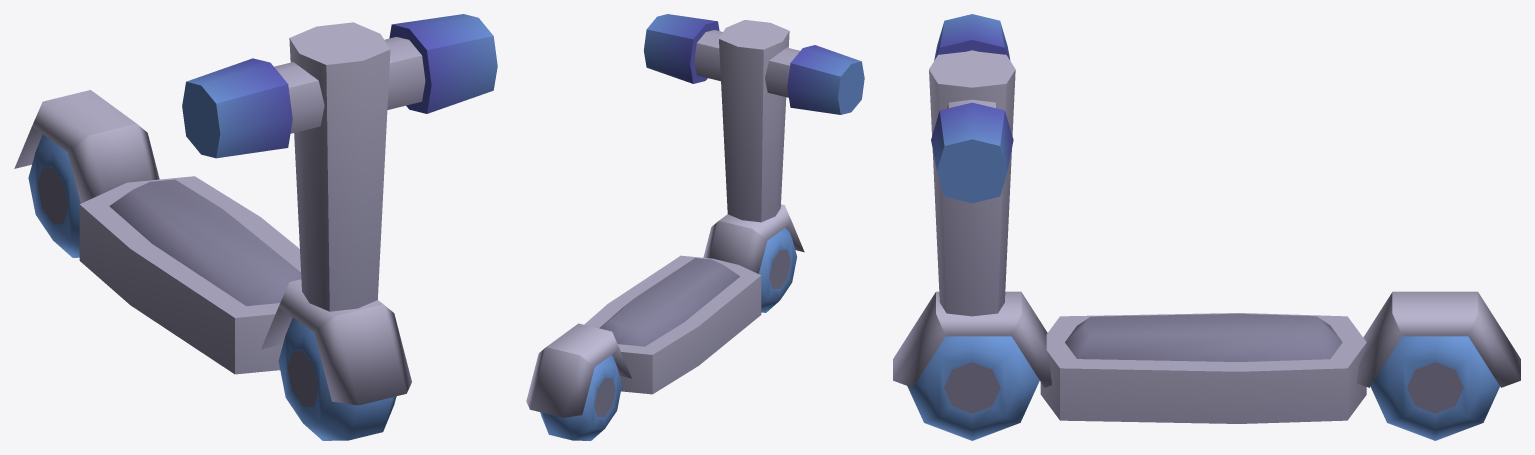
File: scooter.fbx
3 renders of one model, left to right at view 1: azimuth 30°, elevation 25°; view 2: azimuth 150°, elevation 25°; view 3: azimuth 270°, elevation 25°, orthographic. The views are drawn at different scales.
Visible parts, largest first — view 1: scooter; view 2: scooter; view 3: scooter.
Boxes of the visible parts, left/top/right/bottom form: scooter: left=14, top=14, right=497, bottom=440; scooter: left=526, top=14, right=864, bottom=440; scooter: left=893, top=14, right=1520, bottom=440.
Bounding box in the file's own units: 32.48 × 43.96 × 68.75.
Materials: 1 (1 with a texture image).
